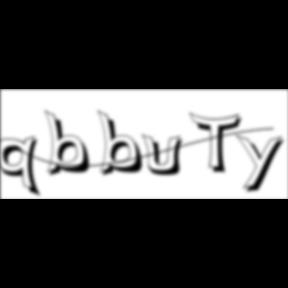T: (190, 112, 248, 176)
b: (44, 109, 98, 179), (98, 109, 150, 179)
q: (0, 135, 46, 200)
u: (142, 132, 190, 178)
y: (236, 132, 288, 196)
